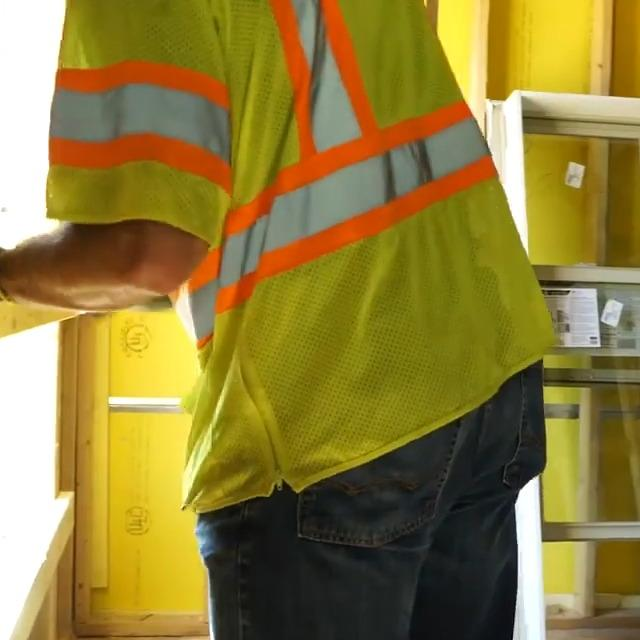Person: (0, 0, 546, 640)
Safety Vest: (44, 0, 561, 503)
